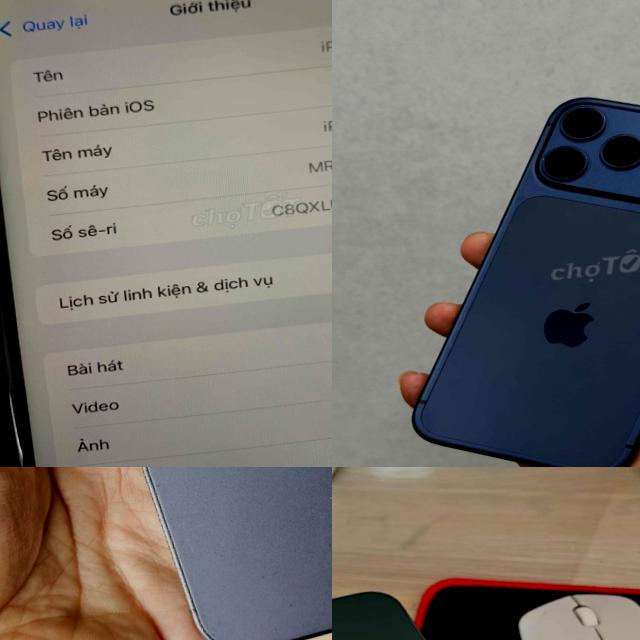gen_12_13: (332, 565, 599, 640)
gen_14: (29, 467, 332, 640)
gen_17: (375, 68, 640, 467)
gen_x_xs: (0, 0, 332, 467)
